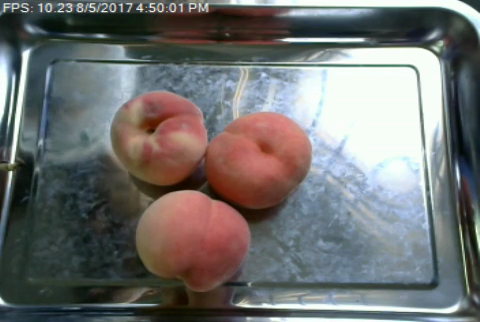Peach: (136, 188, 249, 290), (204, 111, 311, 210), (109, 89, 207, 187)
